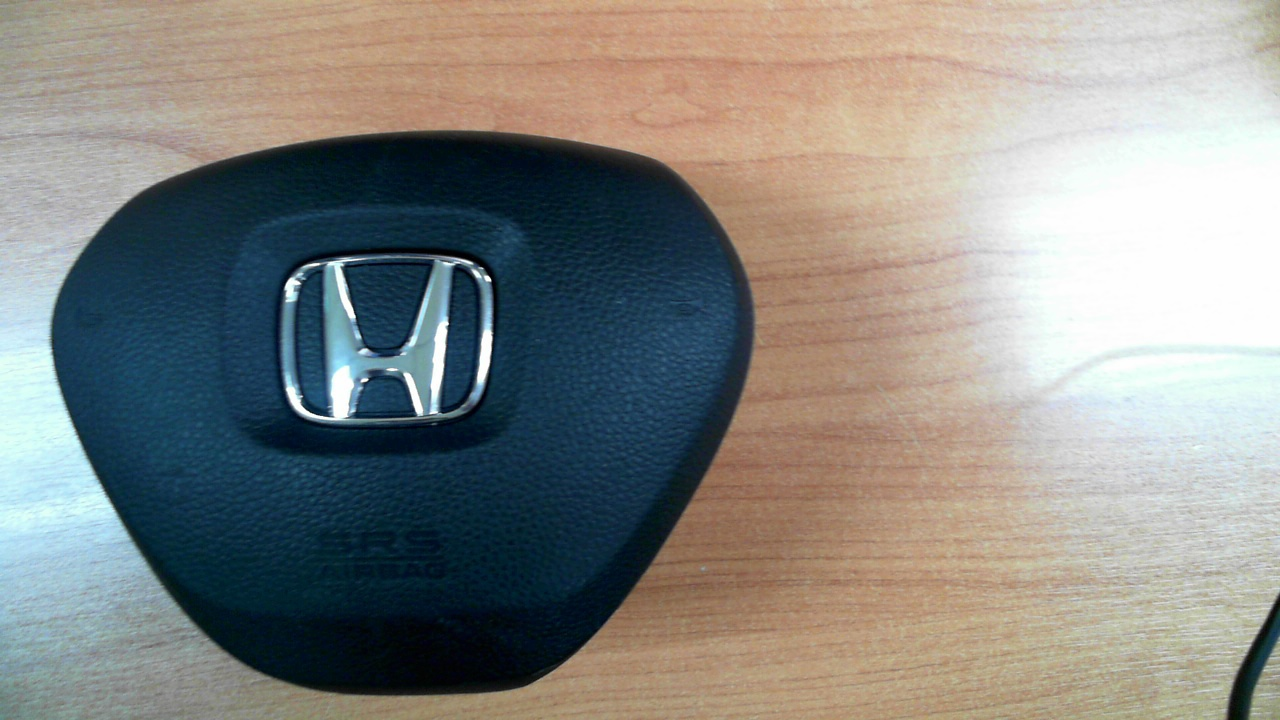Airbag: (49, 129, 755, 698)
Honda: (280, 252, 495, 426)
